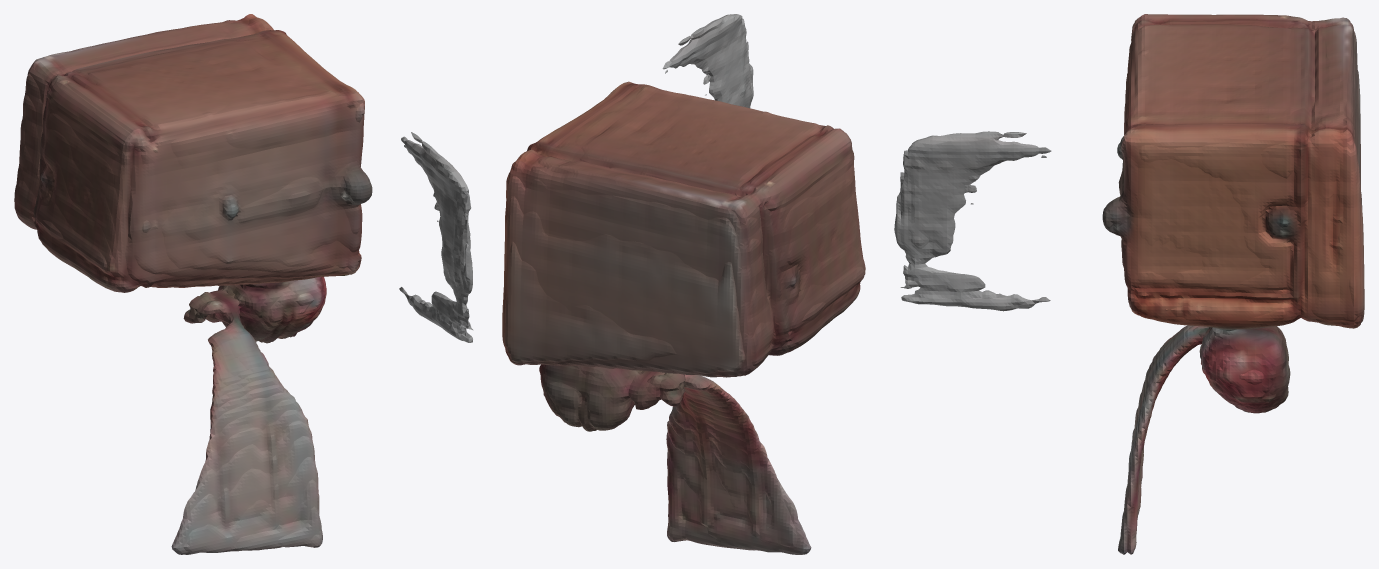
3 renders of one model, left to right at view 1: azimuth 30°, elevation 25°; view 2: azimuth 150°, elevation 25°; view 3: azimuth 270°, elevation 25°, orthographic.
Parts seen in each view (by area): view 1: world; view 2: world; view 3: world.
Boxes of the visible parts, x1,y1,x2,y2 form: world: (14, 14, 473, 554); world: (502, 14, 865, 554); world: (894, 14, 1364, 554).
Bounding box in the file's own units: 0.5951 × 0.9708 × 0.9061.
